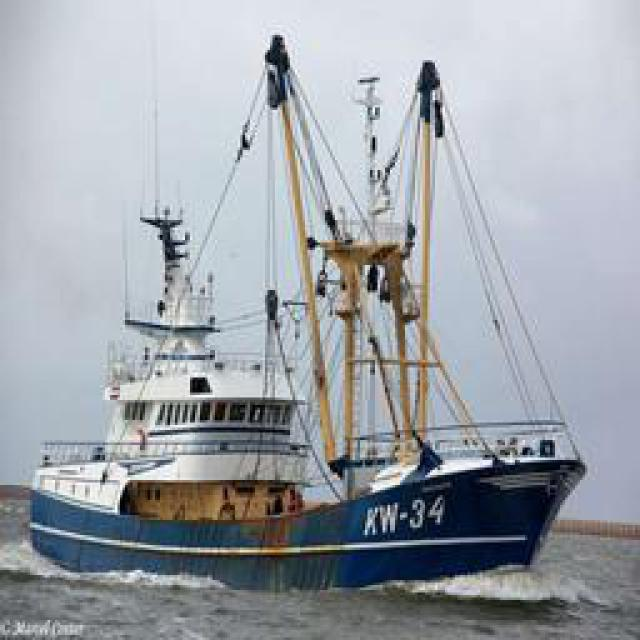Ship: (34, 34, 604, 579)
